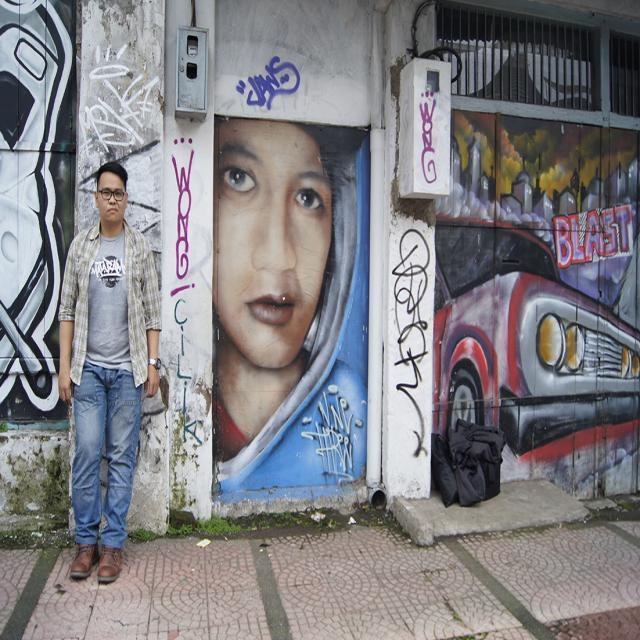-: (437, 116, 640, 484), (214, 112, 367, 494), (0, 0, 74, 419), (170, 132, 204, 454), (392, 226, 426, 463), (84, 46, 152, 154), (236, 51, 301, 114), (420, 84, 438, 188)
